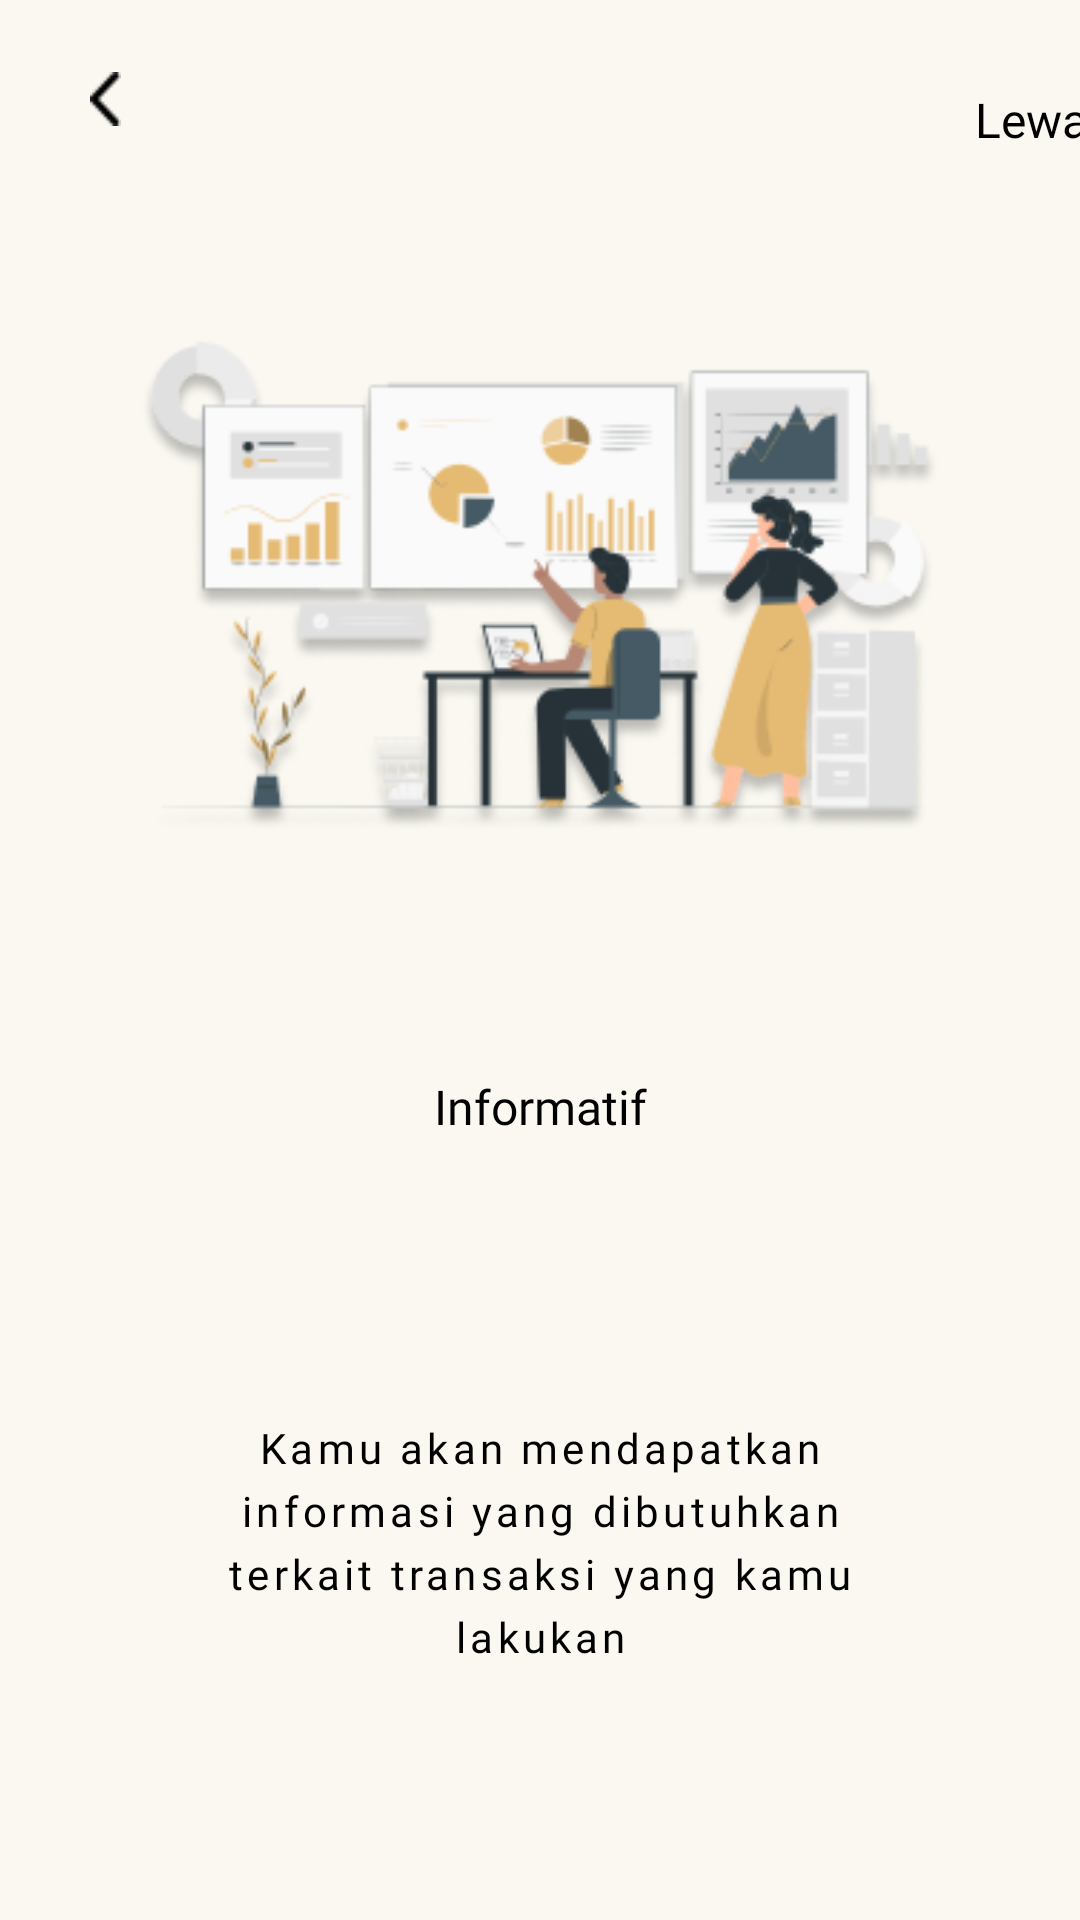

Icon bounding boxes for this 1080px x 1920px phone screenshot, format (x1, y1, x2, y2):
back: (90, 72, 121, 126)
